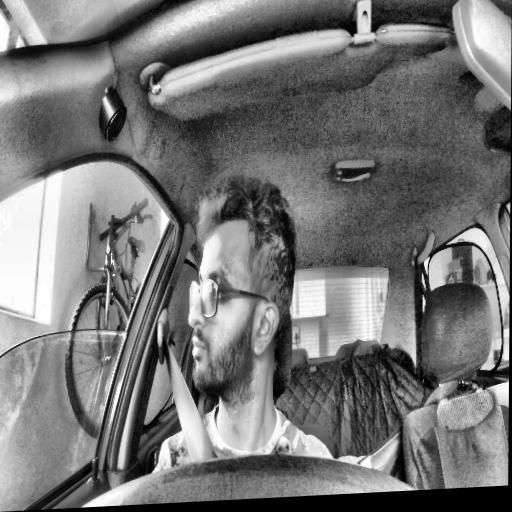awake: (186, 179, 296, 403)
